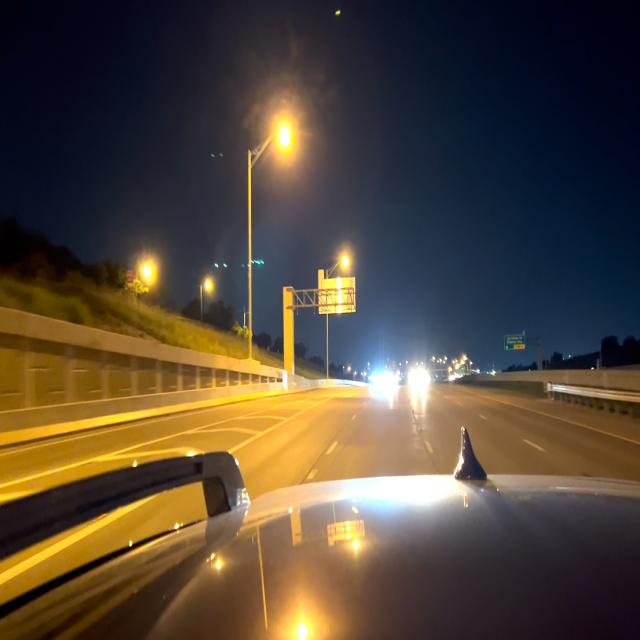back-of-sign: (318, 277, 356, 313)
